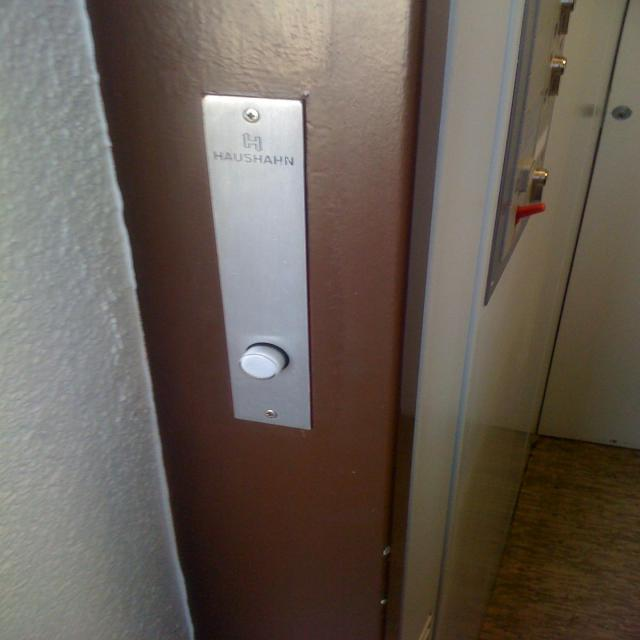empty: (231, 337, 293, 385)
